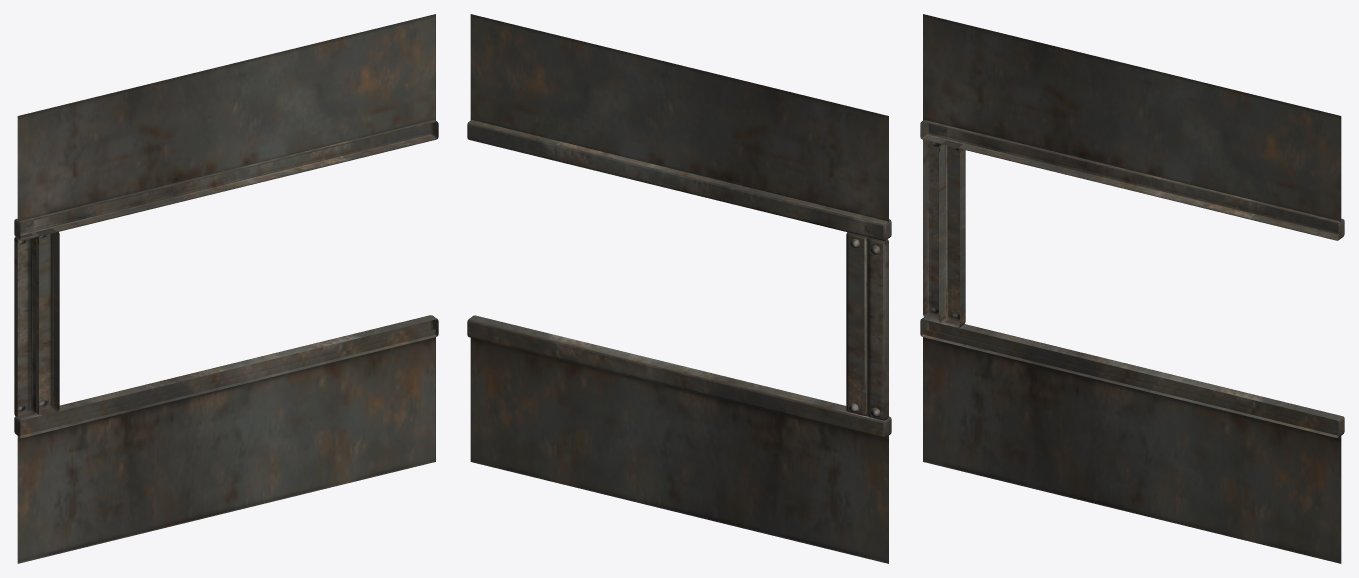
Rendered from wall_014.glb.
3 views of the same model, side by side, from view 1: azimuth 30°, elevation 25°; view 2: azimuth 150°, elevation 25°; view 3: azimuth 330°, elevation 25° (orthographic).
Parts seen in each view (by area): view 1: Building_12_083; view 2: Building_12_083; view 3: Building_12_083.
Part boxes in pixels (x1,y1,x2,y2): Building_12_083: (14,14,438,563); Building_12_083: (467,14,891,563); Building_12_083: (920,14,1344,563).
Size of the model in its own units: 1.96 by 2 by 0.0748.
Materials: 1 (1 with a texture image).
